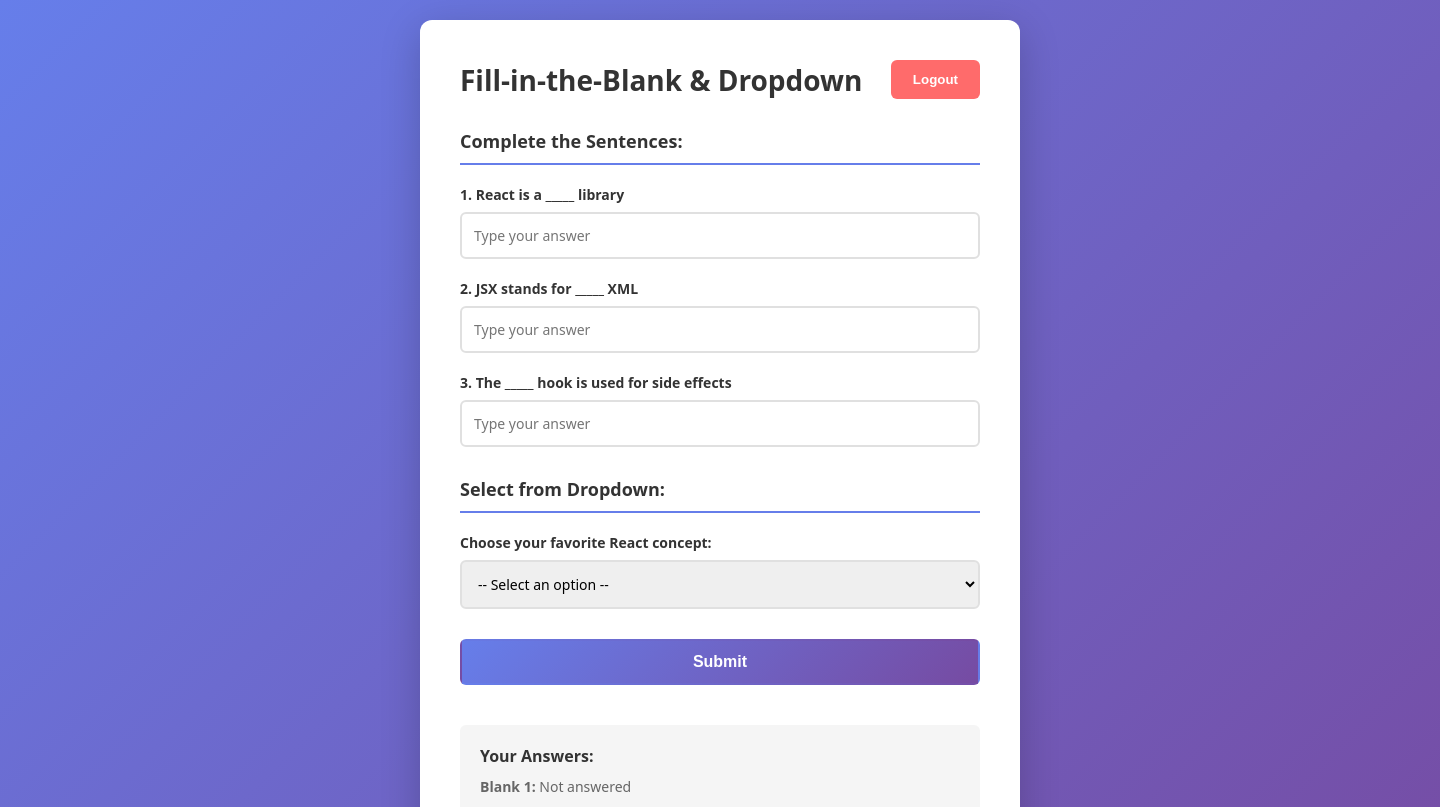
Scenario: FormInteractionsPage - Jest Unit Tests › TEST 4: shows error messages when submitting empty form
Step 1. Click the button "Submit" → (720, 662), box [460,639,980,685]
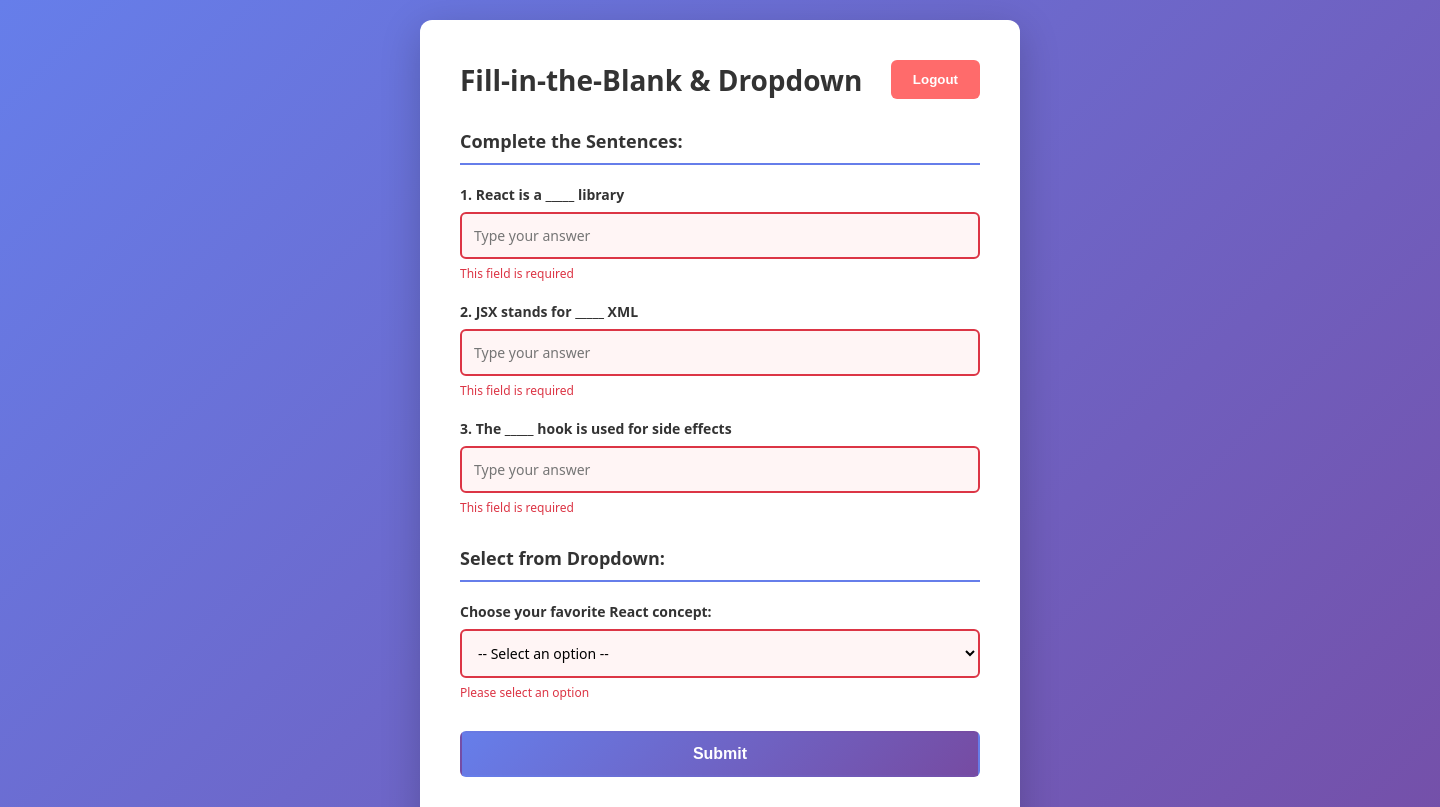
Now the text "This field is required" is shown 3 times, box [460,265,574,282]; [460,382,574,399]; [460,499,574,516]
Now the text "Please select an option" is shown, box [460,684,589,701]
